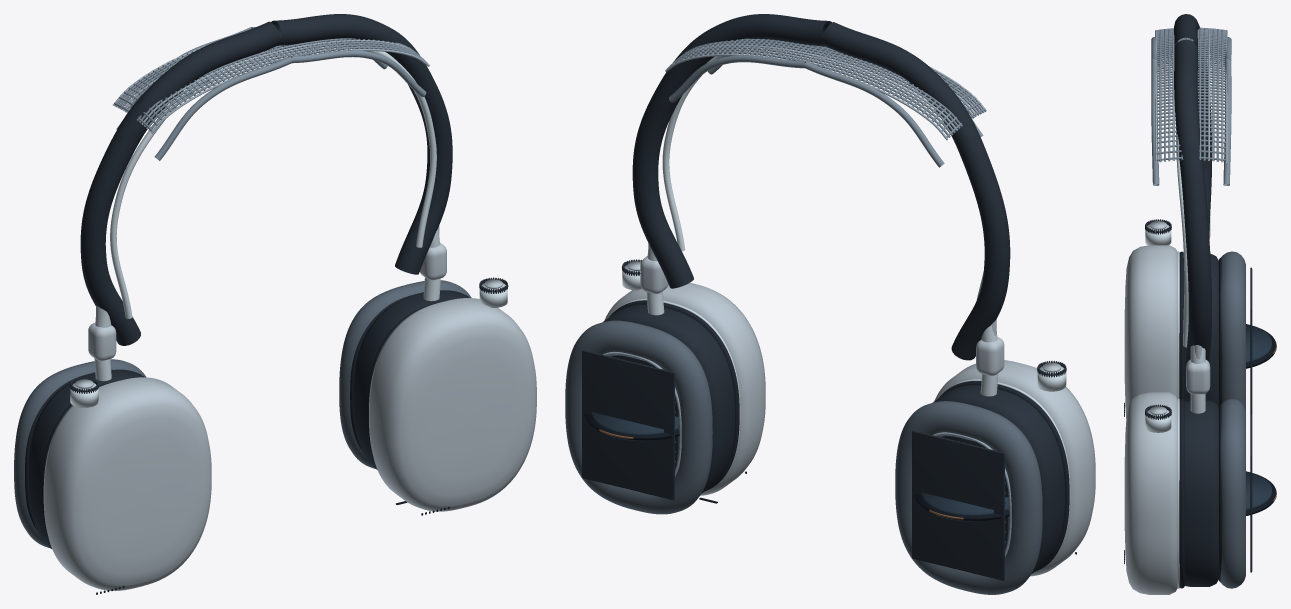
The model's file is aether-studio.glb.
3 views of the same model, side by side, from view 1: azimuth 30°, elevation 25°; view 2: azimuth 150°, elevation 25°; view 3: azimuth 270°, elevation 25° (orthographic). The views are drawn at different scales.
Visible parts, largest first — view 1: SHELL_R_SURFACE, SHELL_L_SURFACE, HEADBAND_SURFACE, CUSHION_R_SURFACE, CUSHION_L_SURFACE, DRIVER_R_SURFACE, DRIVER_L_SURFACE, HINGE_L_SURFACE, HINGE_R_SURFACE; view 2: HEADBAND_SURFACE, CUSHION_R_SURFACE, CUSHION_L_SURFACE, SHELL_R_SURFACE, SHELL_L_SURFACE, DRIVER_L_SURFACE, DRIVER_R_SURFACE, HINGE_L_SURFACE, HINGE_R_SURFACE; view 3: HEADBAND_SURFACE, SHELL_R_SURFACE, SHELL_L_SURFACE, DRIVER_R_SURFACE, CUSHION_R_SURFACE, CUSHION_L_SURFACE, DRIVER_L_SURFACE, HINGE_R_SURFACE.
Boxes of the visible parts, x1,y1,x2,y2 form: SHELL_R_SURFACE: [367, 277, 536, 515]; SHELL_L_SURFACE: [41, 377, 211, 594]; HEADBAND_SURFACE: [80, 14, 452, 345]; CUSHION_R_SURFACE: [339, 280, 471, 468]; CUSHION_L_SURFACE: [14, 359, 146, 548]; DRIVER_R_SURFACE: [353, 290, 469, 469]; DRIVER_L_SURFACE: [27, 369, 144, 548]; HINGE_L_SURFACE: [88, 305, 116, 381]; HINGE_R_SURFACE: [420, 226, 446, 301]; HEADBAND_SURFACE: [632, 14, 1010, 360]; CUSHION_R_SURFACE: [565, 320, 712, 514]; CUSHION_L_SURFACE: [895, 401, 1042, 594]; SHELL_R_SURFACE: [604, 259, 765, 503]; SHELL_L_SURFACE: [934, 360, 1095, 576]; DRIVER_L_SURFACE: [914, 385, 1064, 573]; DRIVER_R_SURFACE: [584, 304, 734, 493]; HINGE_L_SURFACE: [976, 319, 1004, 396]; HINGE_R_SURFACE: [640, 243, 668, 315]; HEADBAND_SURFACE: [1151, 14, 1231, 368]; SHELL_R_SURFACE: [1124, 392, 1184, 594]; SHELL_L_SURFACE: [1124, 219, 1184, 418]; DRIVER_R_SURFACE: [1184, 400, 1276, 586]; CUSHION_R_SURFACE: [1219, 398, 1252, 588]; CUSHION_L_SURFACE: [1219, 251, 1252, 415]; DRIVER_L_SURFACE: [1184, 253, 1276, 407]; HINGE_R_SURFACE: [1186, 345, 1210, 413].
Bounding box in the file's own units: 3.4 × 3.47 × 1.02.
